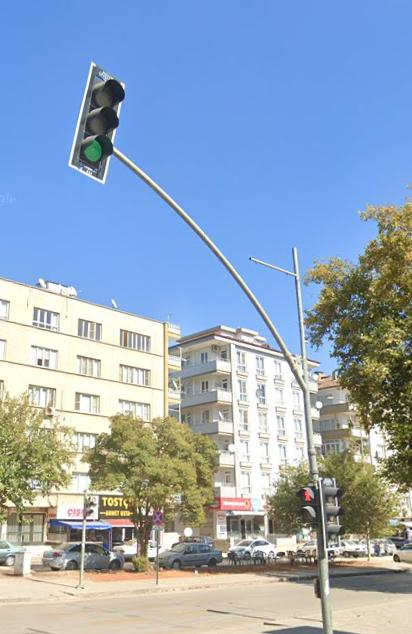greenlight: (81, 61, 119, 178)
